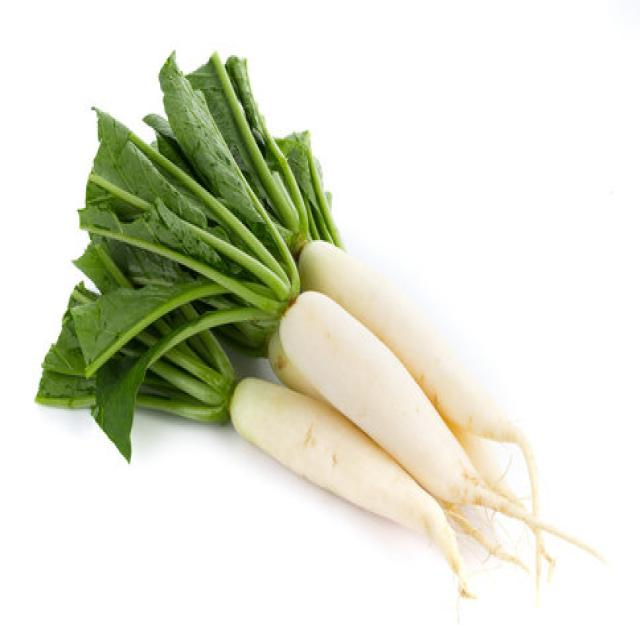Carrot: (267, 286, 603, 587), (227, 373, 476, 599)
Coriander Leaves: (33, 46, 344, 462)
Radish: (34, 48, 603, 599)
